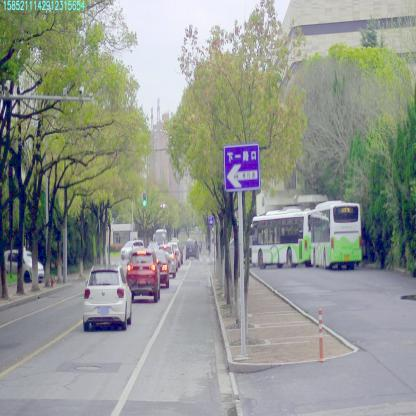traffic-light: (142, 191, 146, 206)
